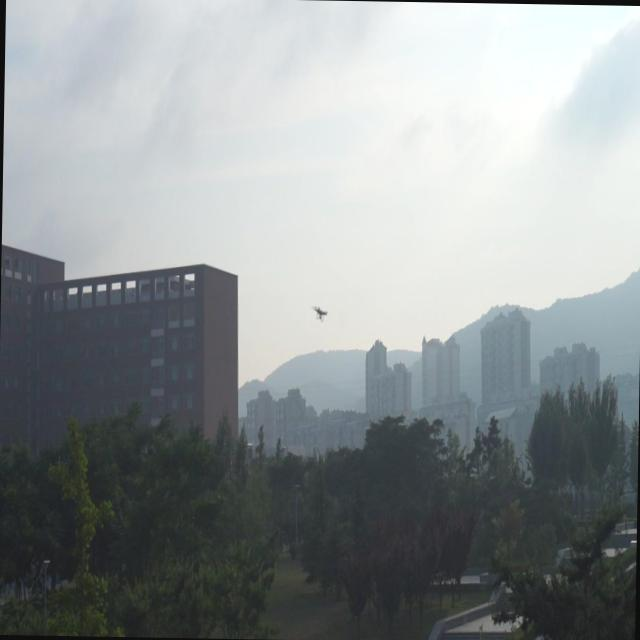drone: (310, 298, 330, 324)
